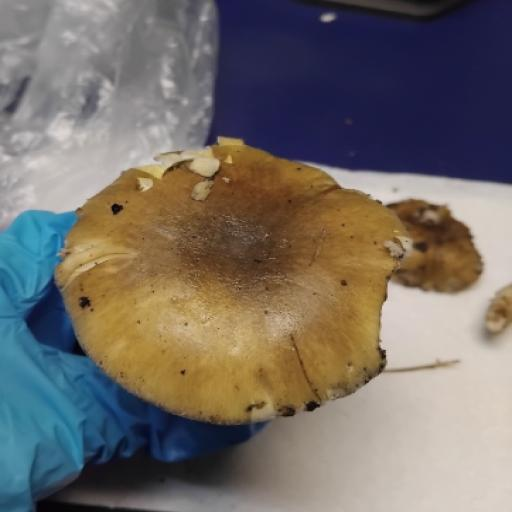Death Cap: (67, 133, 484, 420)
